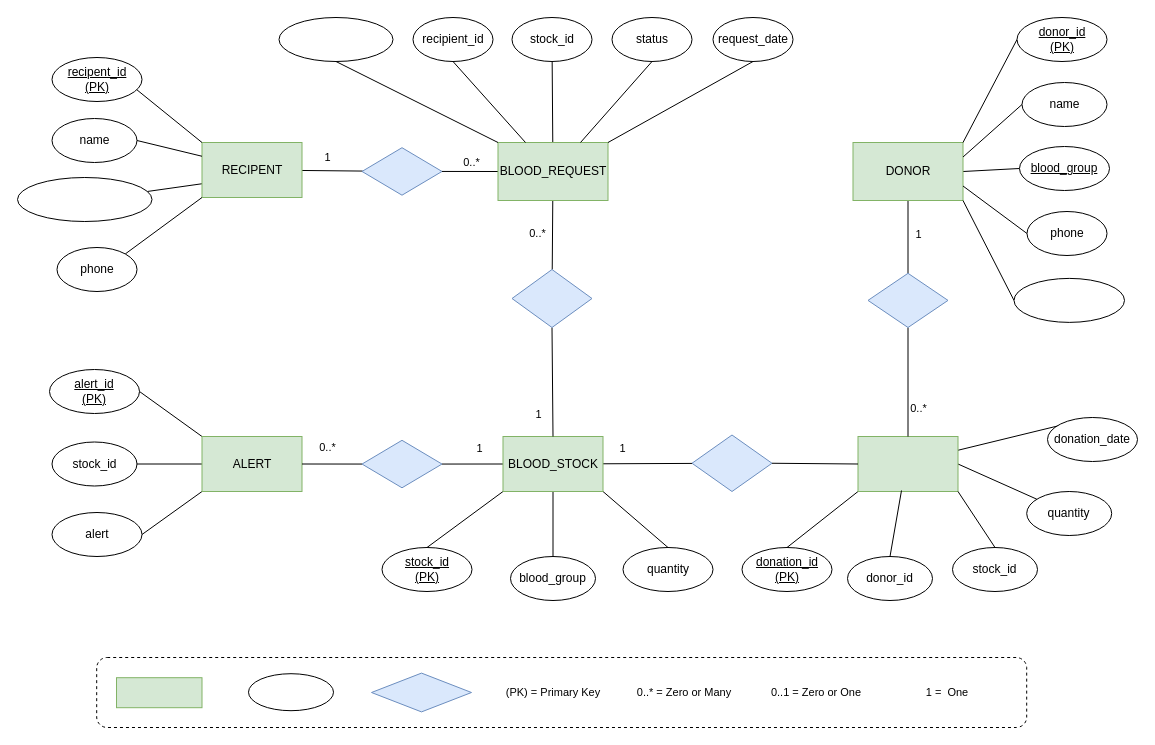
This 1155x745 diagram has some shape labels left out. The centre of each missing label's shape, as x and y in pixels:
"attribute" belongs at pixel 291 692.
"donates" belongs at pixel 907 300.
"DONATION" belongs at pixel 907 464.
"Entity" belongs at pixel 159 692.
"generates" belongs at pixel 401 463.
"last_donation_date" belongs at pixel 1068 299.
"relationship" belongs at pixel 421 692.
"request_id (PK)" belongs at pixel 335 39.
"requests" belongs at pixel 401 171.
"required_blood_group" belongs at pixel 84 199.
"stores" belongs at pixel 731 463.
"suplies" belongs at pixel 551 298.
